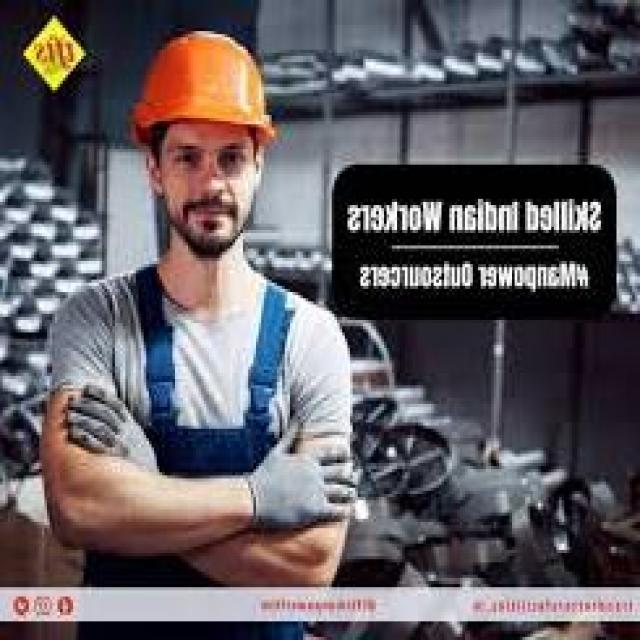Reflective-Jacket: (63, 267, 355, 578)
Safety-Helmet: (125, 25, 285, 149)
